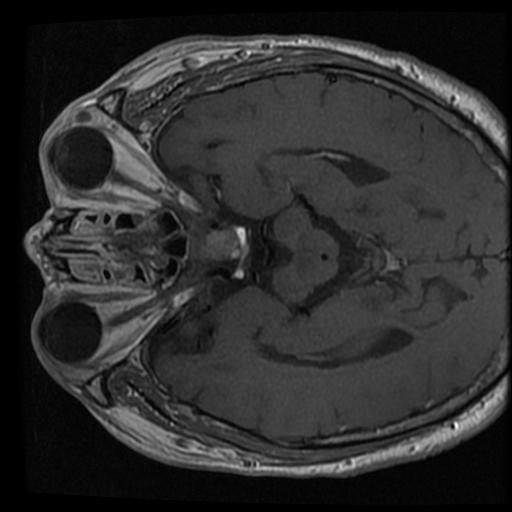pituitary tumour: (201, 229, 239, 262)
